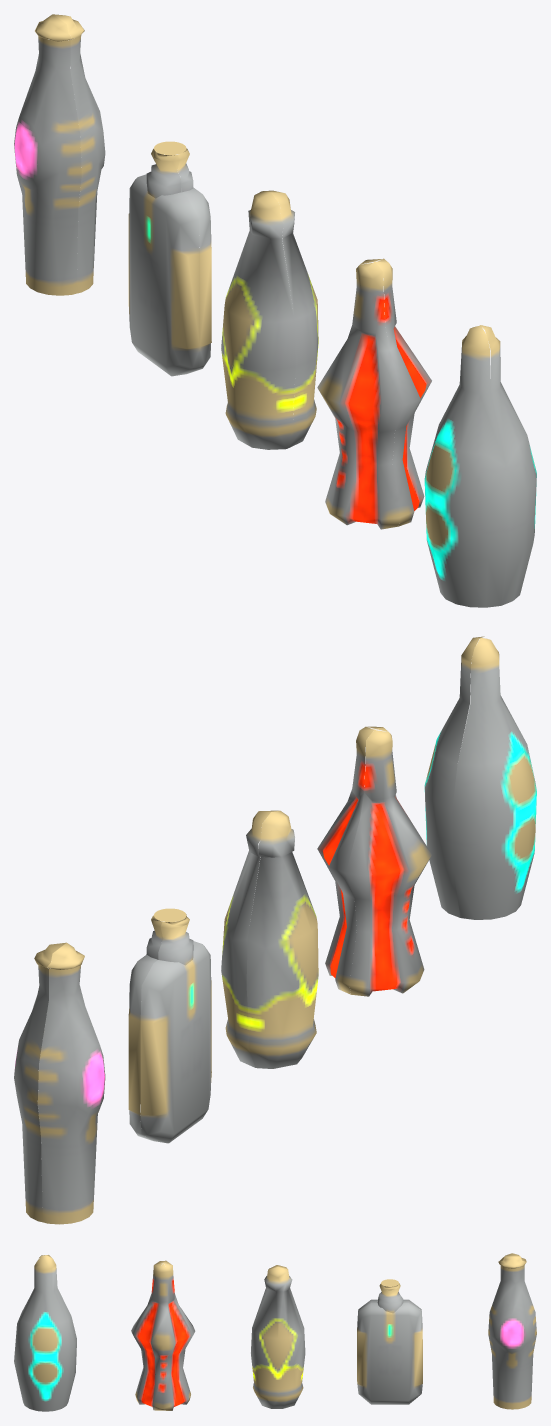
File: bar_bottles_2_a.glb
The picture shows the model from 3 angles, top to bottom: view 1: azimuth 30°, elevation 25°; view 2: azimuth 150°, elevation 25°; view 3: azimuth 270°, elevation 25°; orthographic projection. The views are drawn at different scales.
Parts seen in each view (by area): view 1: bar_bottles_2; view 2: bar_bottles_2; view 3: bar_bottles_2.
Part boxes in pixels (x1=…): bar_bottles_2: x1=14, y1=14, x2=536, y2=607; bar_bottles_2: x1=14, y1=636, x2=536, y2=1224; bar_bottles_2: x1=14, y1=1253, x2=536, y2=1411.
Bounding box in the file's own units: 0.1329 × 0.3335 × 1.07.
Materials: 1 (1 with a texture image).
